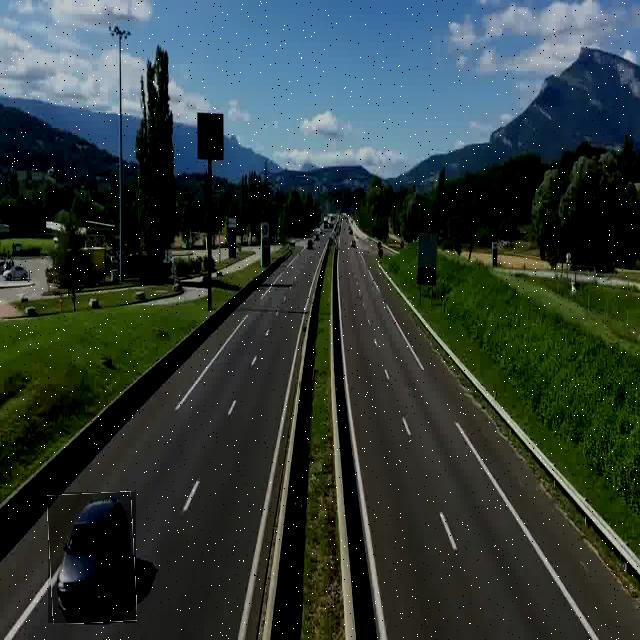Car: (48, 492, 136, 623)
